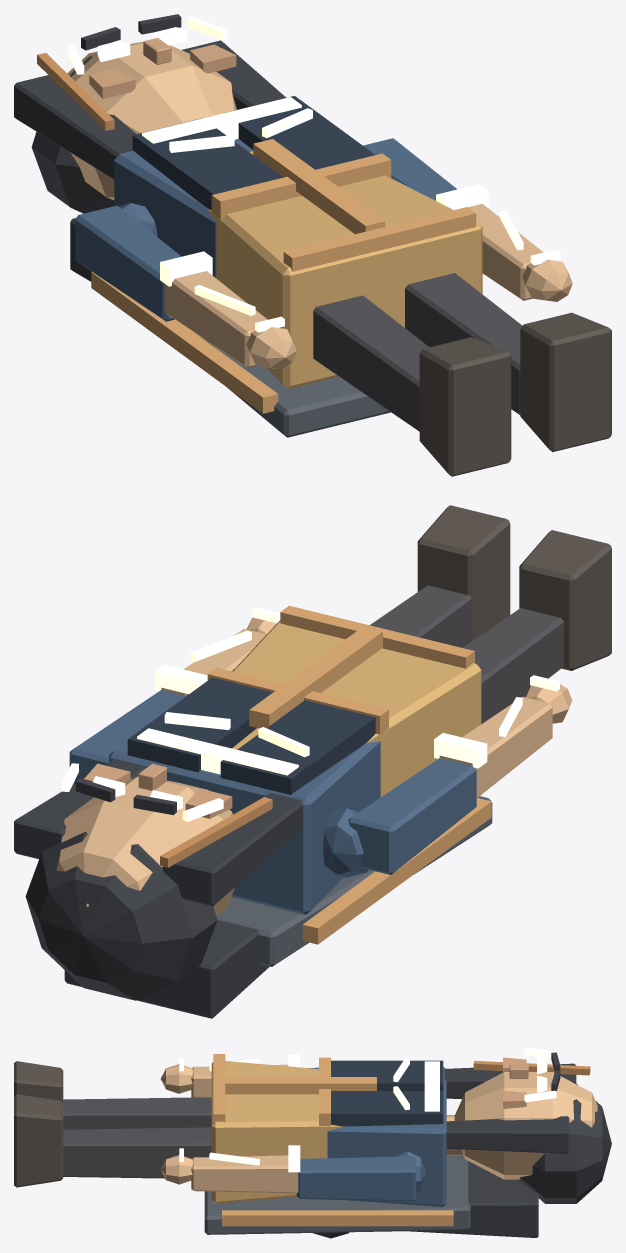
Rendered from IskryaninFemale.fbx.
3 views of the same model, one above another, from view 1: azimuth 30°, elevation 25°; view 2: azimuth 150°, elevation 25°; view 3: azimuth 270°, elevation 25° (orthographic). The views are drawn at different scales.
Visible parts, largest first — view 1: Torso_Tunic, Boot_Left, Boot_Right, Leg_Left, Head, Leg_Right, Arm_Upper_Left, ShortJacket, Hair_Long_Lock_Left, ShortJacket_LeftFrontPanel, LightCloak_BackPanel, LightCloak_Edge_Left (+20 smaller); view 2: Hair_Cap, Torso_Tunic, ShortJacket, Head, Boot_Left, Arm_Upper_Left, Boot_Right, ShortJacket_LeftFrontPanel, Leg_Left, Hair_Long_Lock_Left, Hair_Long_Back, ShortJacket_RightFrontPanel (+18 smaller); view 3: Torso_Tunic, Leg_Right, Head, LightCloak_BackPanel, ShortJacket, Arm_Upper_Right, Hair_Cap, Leg_Left, Hair_Long_Back, Boot_Right, Hair_Long_Lock_Right, LightCloak_Edge_Right (+18 smaller).
Boxes of the visible parts, x1,y1,x2,y2 form: Torso_Tunic: (206, 151, 482, 388); Boot_Left: (419, 337, 511, 476); Boot_Right: (520, 312, 611, 452); Leg_Left: (313, 295, 428, 431); Head: (67, 41, 236, 200); Leg_Right: (405, 273, 522, 414); Arm_Upper_Left: (75, 205, 181, 321); ShortJacket: (114, 139, 253, 277); Hair_Long_Lock_Left: (14, 75, 136, 179); ShortJacket_LeftFrontPanel: (132, 118, 283, 209); LightCloak_BackPanel: (197, 334, 390, 437); LightCloak_Edge_Left: (91, 272, 278, 413); Hair_Cap: (25, 831, 217, 1000); Torso_Tunic: (232, 620, 481, 797); ShortJacket: (109, 741, 380, 914); Head: (56, 776, 234, 915); Boot_Left: (519, 530, 611, 670); Arm_Upper_Left: (348, 758, 476, 874); Boot_Right: (417, 505, 510, 640); ShortJacket_LeftFrontPanel: (220, 700, 375, 794); Leg_Left: (463, 608, 563, 723); Hair_Long_Lock_Left: (162, 792, 302, 906); Hair_Long_Back: (64, 920, 269, 1018); ShortJacket_RightFrontPanel: (127, 677, 272, 772); Torso_Tunic: (211, 1061, 343, 1203); Leg_Right: (63, 1127, 211, 1178); Head: (454, 1072, 606, 1179); LightCloak_BackPanel: (204, 1155, 470, 1234); ShortJacket: (327, 1067, 446, 1206); Arm_Upper_Right: (296, 1156, 415, 1201); Hair_Cap: (519, 1083, 611, 1203); Leg_Left: (63, 1097, 211, 1129); Hair_Long_Back: (410, 1161, 538, 1237); Boot_Right: (14, 1094, 63, 1187); Hair_Long_Lock_Right: (446, 1116, 569, 1153); LightCloak_Edge_Right: (222, 1210, 453, 1226).
Bounding box in the file's own units: 73.47 × 53.1 × 176.
